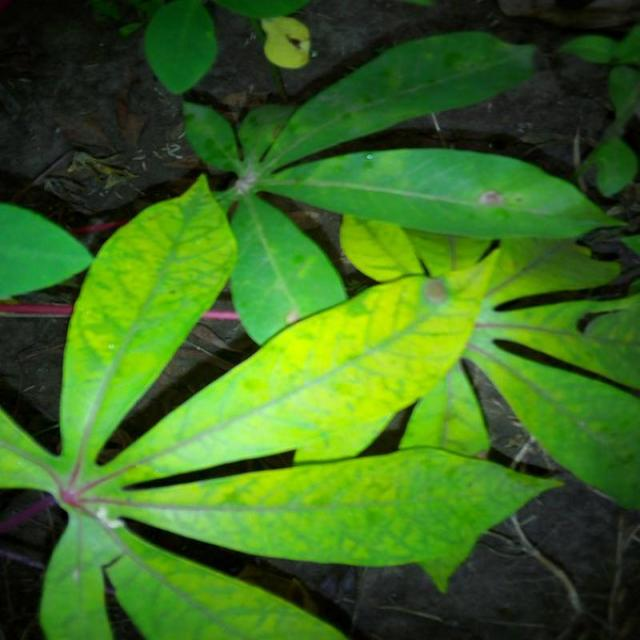cassava leaf: (1, 21, 638, 638), (96, 248, 499, 487), (58, 172, 238, 466)
